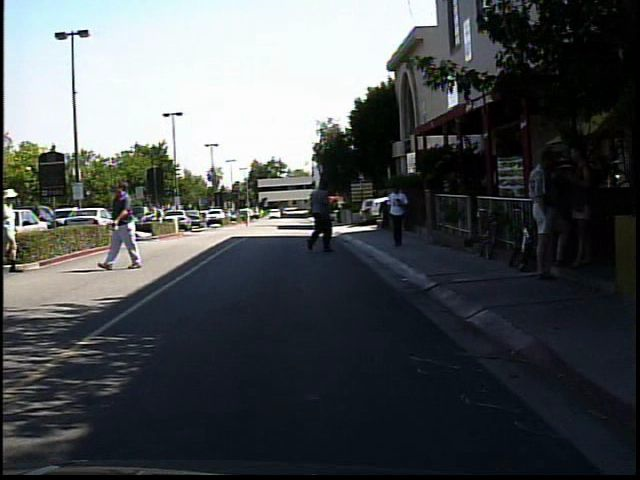person: (526, 139, 570, 283), (563, 142, 601, 275), (98, 177, 147, 271), (303, 175, 344, 254), (378, 178, 413, 250), (2, 182, 24, 276), (154, 200, 170, 233), (241, 204, 257, 229)
